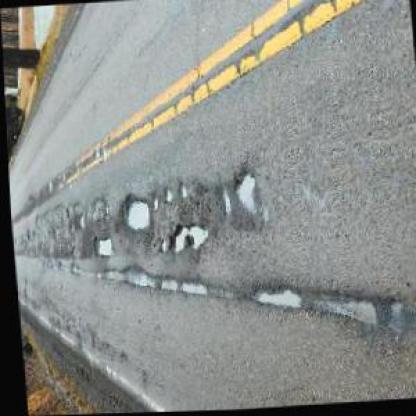pothole: (310, 291, 374, 332), (164, 220, 208, 254), (111, 194, 147, 232), (250, 286, 298, 310), (228, 169, 252, 212), (115, 263, 151, 290), (173, 277, 204, 298), (89, 236, 112, 256), (215, 186, 230, 216), (158, 187, 172, 204), (74, 213, 83, 229), (175, 183, 183, 200), (147, 197, 157, 208)
